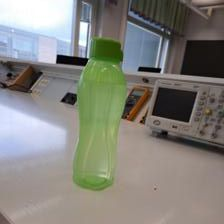bottle: (68, 38, 130, 193)
